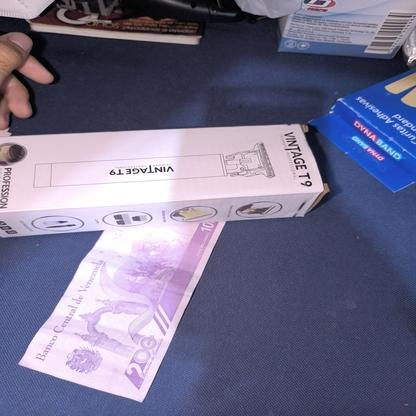one_hundred-back-vef: (17, 222, 226, 404)
